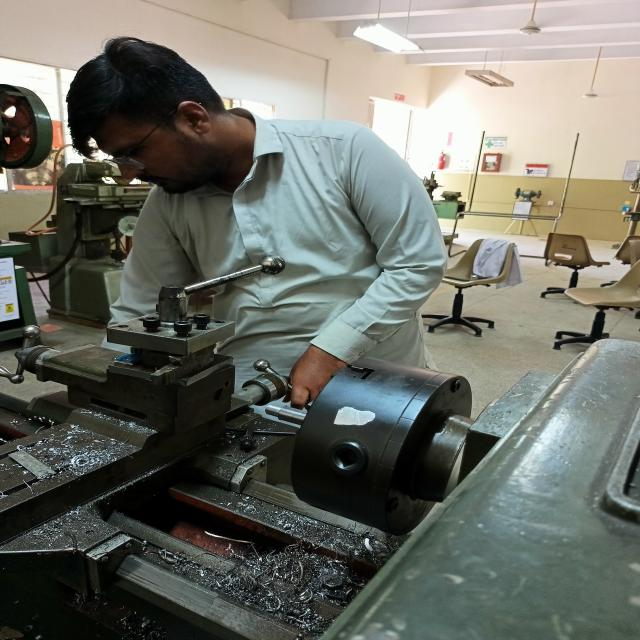dress: (94, 108, 461, 406)
glasses: (97, 148, 155, 178)
